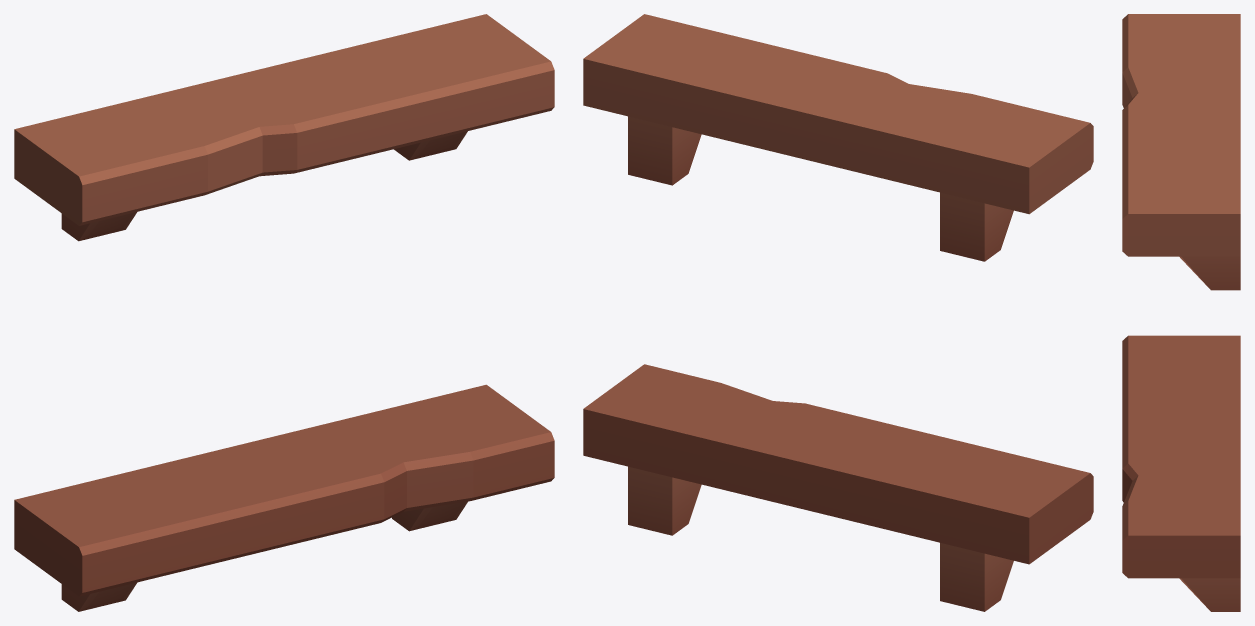
Rendered from shelves.gltf.
The picture shows the model from 3 angles, left to right: view 1: azimuth 30°, elevation 25°; view 2: azimuth 150°, elevation 25°; view 3: azimuth 270°, elevation 25°; orthographic projection. The views are drawn at different scales.
Visible parts, largest first — view 1: shelves; view 2: shelves; view 3: shelves.
Boxes of the visible parts, x1=… form: shelves: x1=14, y1=14, x2=554, y2=611; shelves: x1=583, y1=14, x2=1093, y2=611; shelves: x1=1122, y1=14, x2=1240, y2=611.
Bounding box in the file's own units: 2 × 1.95 × 0.5.
Materials: 1 (1 with a texture image).
